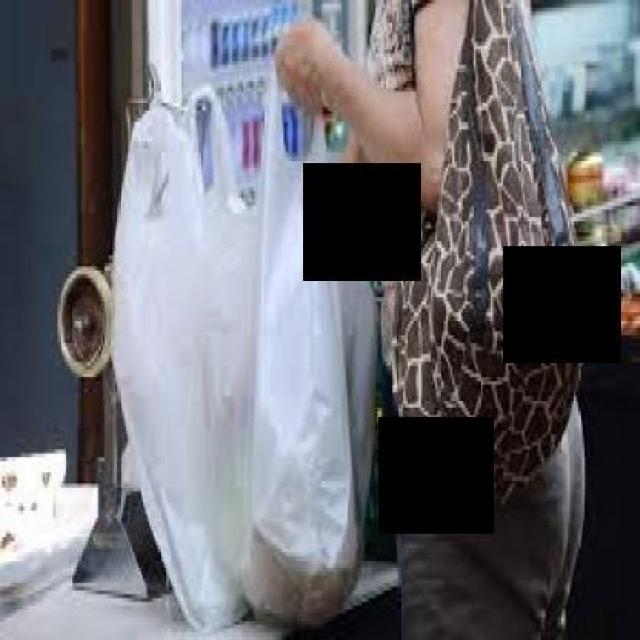plastic bag: (66, 29, 374, 622)
